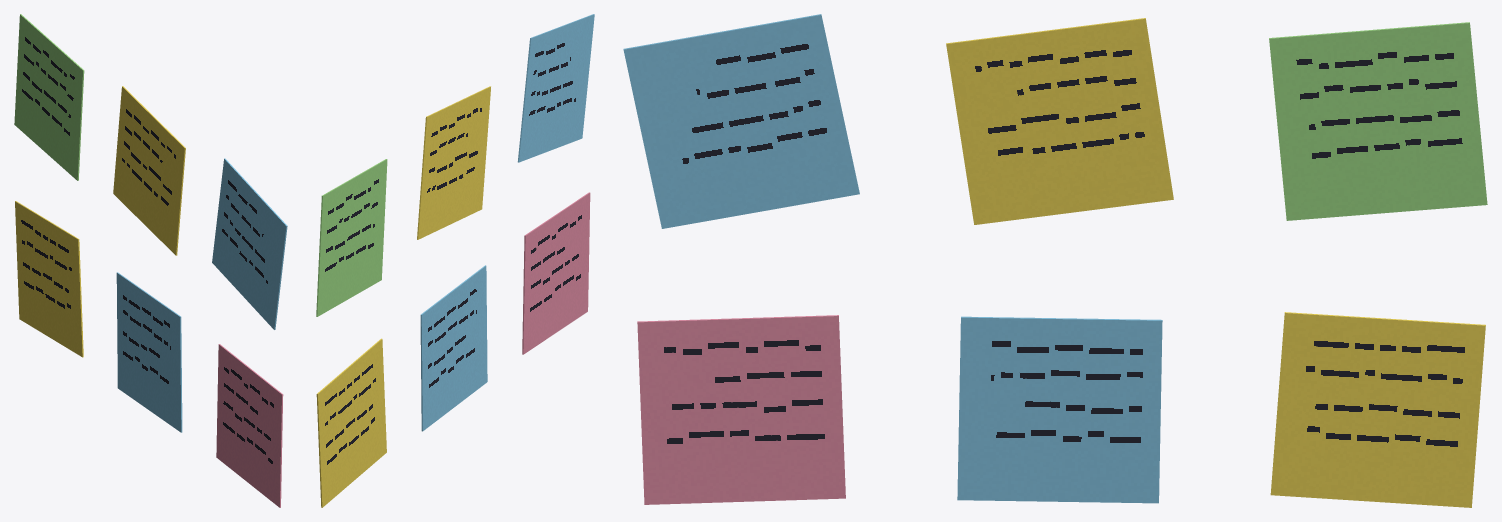
Rendered from escena.casa.post_its_proyecto.fbx.
3 renders of one model, left to right at view 1: azimuth 30°, elevation 25°; view 2: azimuth 150°, elevation 25°; view 3: azimuth 270°, elevation 25°, orthographic. The views are drawn at different scales.
Visible parts, largest first — view 1: Post-it.001, Post-it.005, Post-it.003, Post-it.002, Post-it.004, Post-it; view 2: Post-it.001, Post-it, Post-it.003, Post-it.002, Post-it.004, Post-it.005; view 3: Post-it.005, Post-it.001, Post-it.004, Post-it, Post-it.003, Post-it.002.
Boxes of the visible parts, left/top/right/bottom form: Post-it.001: left=116, top=272, right=182, bottom=432; Post-it.005: left=212, top=158, right=287, bottom=329; Post-it.003: left=14, top=14, right=84, bottom=180; Post-it.002: left=216, top=344, right=283, bottom=507; Post-it.004: left=113, top=86, right=185, bottom=255; Post-it: left=15, top=201, right=83, bottom=357; Post-it.001: left=420, top=265, right=487, bottom=431; Post-it: left=316, top=338, right=386, bottom=507; Post-it.003: left=316, top=159, right=387, bottom=316; Post-it.002: left=522, top=192, right=590, bottom=354; Post-it.004: left=417, top=86, right=490, bottom=239; Post-it.005: left=517, top=14, right=594, bottom=162; Post-it.005: left=623, top=14, right=859, bottom=228; Post-it.001: left=957, top=316, right=1162, bottom=503; Post-it.004: left=946, top=18, right=1173, bottom=224; Post-it: left=1270, top=312, right=1485, bottom=507; Post-it.003: left=1269, top=22, right=1487, bottom=220; Post-it.002: left=637, top=315, right=845, bottom=504.
Bounding box in the file's own units: 0.0008 × 0.2051 × 0.3257.
Materials: 6 (6 with a texture image).
